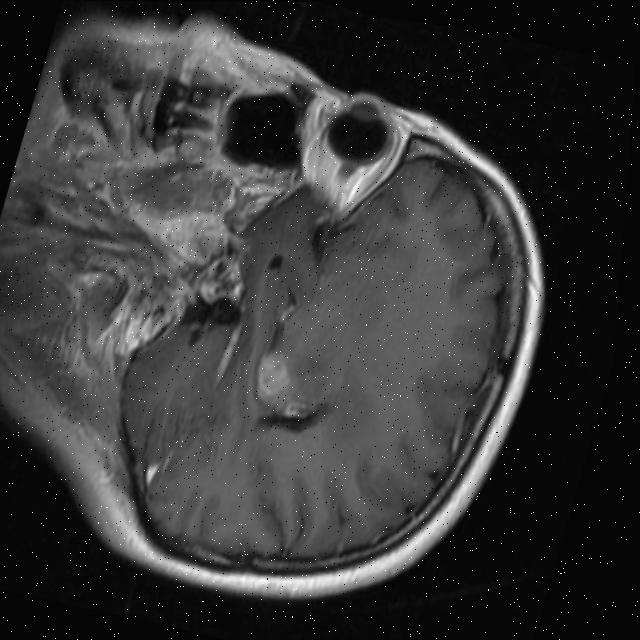Glioma: (247, 348, 298, 403), (278, 400, 311, 421)
